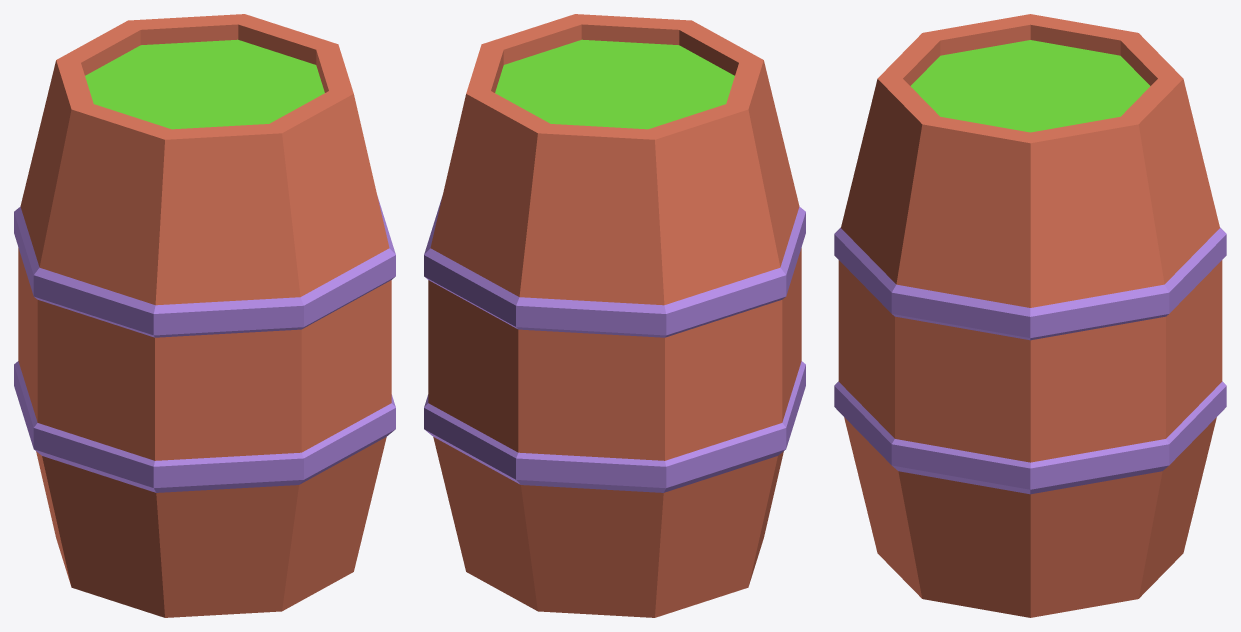
Rendered from barrel.fbx.
3 renders of one model, left to right at view 1: azimuth 30°, elevation 25°; view 2: azimuth 150°, elevation 25°; view 3: azimuth 270°, elevation 25°, orthographic.
Visible parts, largest first — view 1: barrel; view 2: barrel; view 3: barrel.
Part boxes in pixels (<box>): barrel: <box>14,14,395,617</box>; barrel: <box>424,14,805,617</box>; barrel: <box>834,14,1226,617</box>.
Size of the model in its own units: 76.87 by 103 by 76.87.
